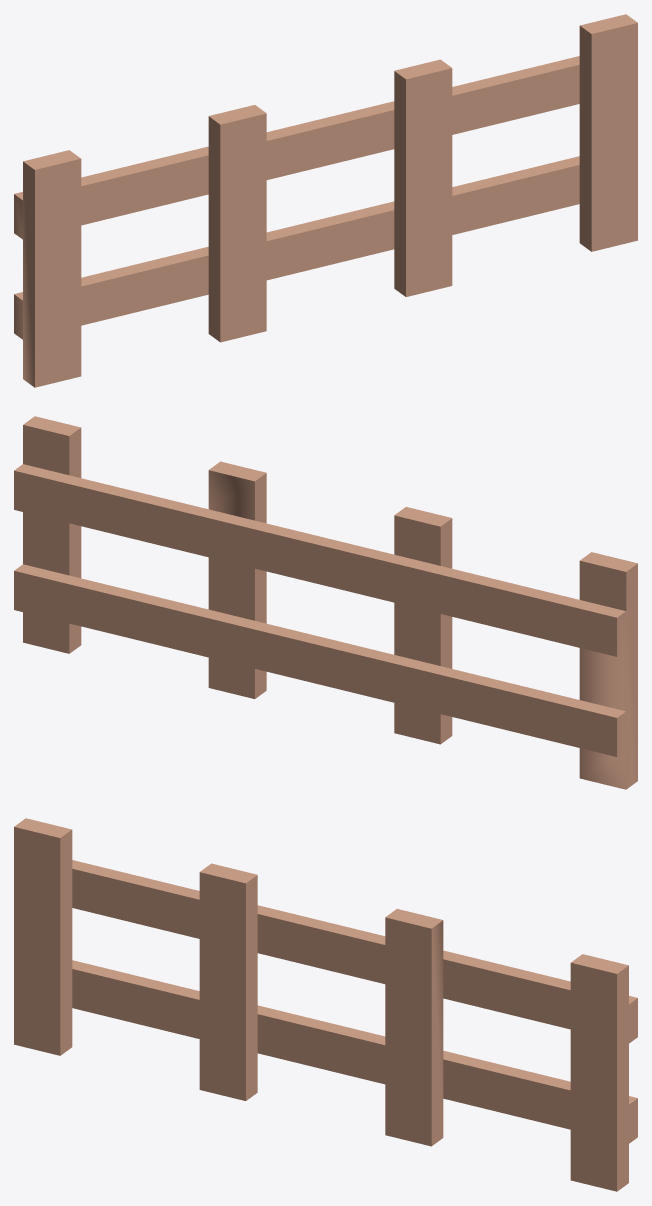
The model's file is fence_planksDouble.glb.
The picture shows the model from 3 angles, top to bottom: view 1: azimuth 30°, elevation 25°; view 2: azimuth 150°, elevation 25°; view 3: azimuth 330°, elevation 25°; orthographic projection.
Parts seen in each view (by area): view 1: fence_planksDouble; view 2: fence_planksDouble; view 3: fence_planksDouble.
Part boxes in pixels (<box>): fence_planksDouble: <box>14,14,637,387</box>; fence_planksDouble: <box>14,416,637,789</box>; fence_planksDouble: <box>14,818,637,1191</box>.
Bounding box in the file's own units: 1 × 0.345 × 0.0599.
